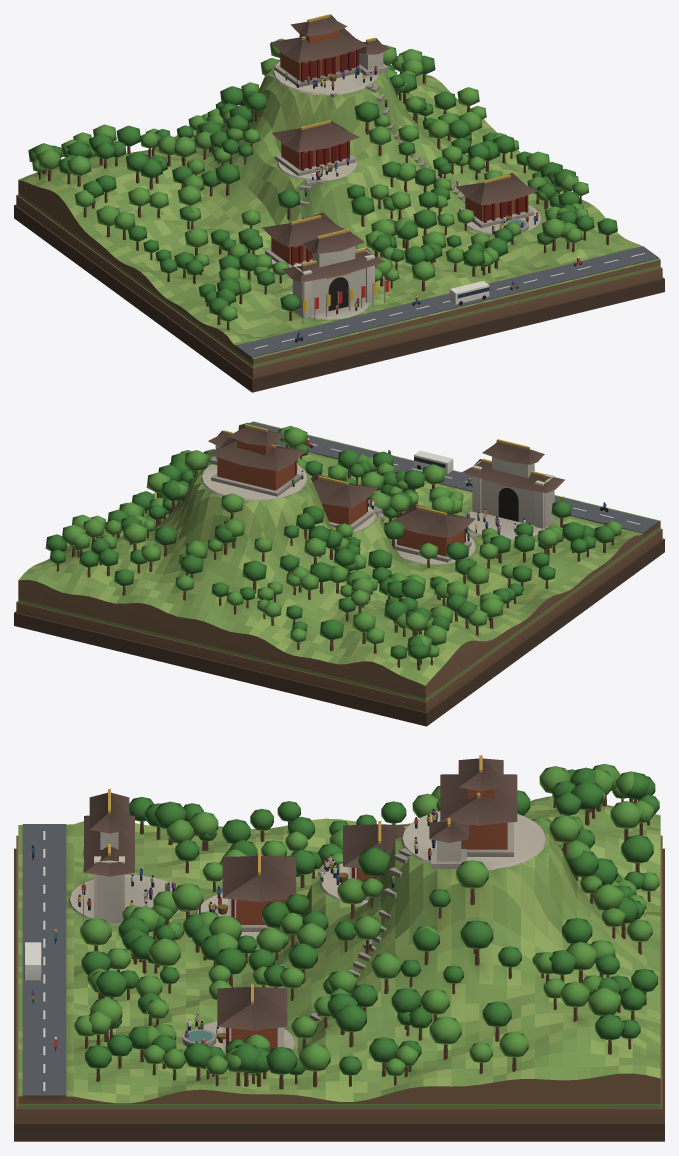
The model's file is den-hung.glb.
The picture shows the model from 3 angles, top to bottom: view 1: azimuth 30°, elevation 25°; view 2: azimuth 150°, elevation 25°; view 3: azimuth 270°, elevation 25°; orthographic projection. The views are drawn at different scales.
Parts seen in each view (by area): view 1: DH_DH_base; view 2: DH_DH_base; view 3: DH_DH_base.
Part boxes in pixels (x1=…): DH_DH_base: x1=14, y1=14, x2=664, y2=392; DH_DH_base: x1=14, y1=421, x2=664, y2=726; DH_DH_base: x1=14, y1=755, x2=664, y2=1141.
Size of the model in its own units: 92 by 40.95 by 92.
1 material, 1 textured.
